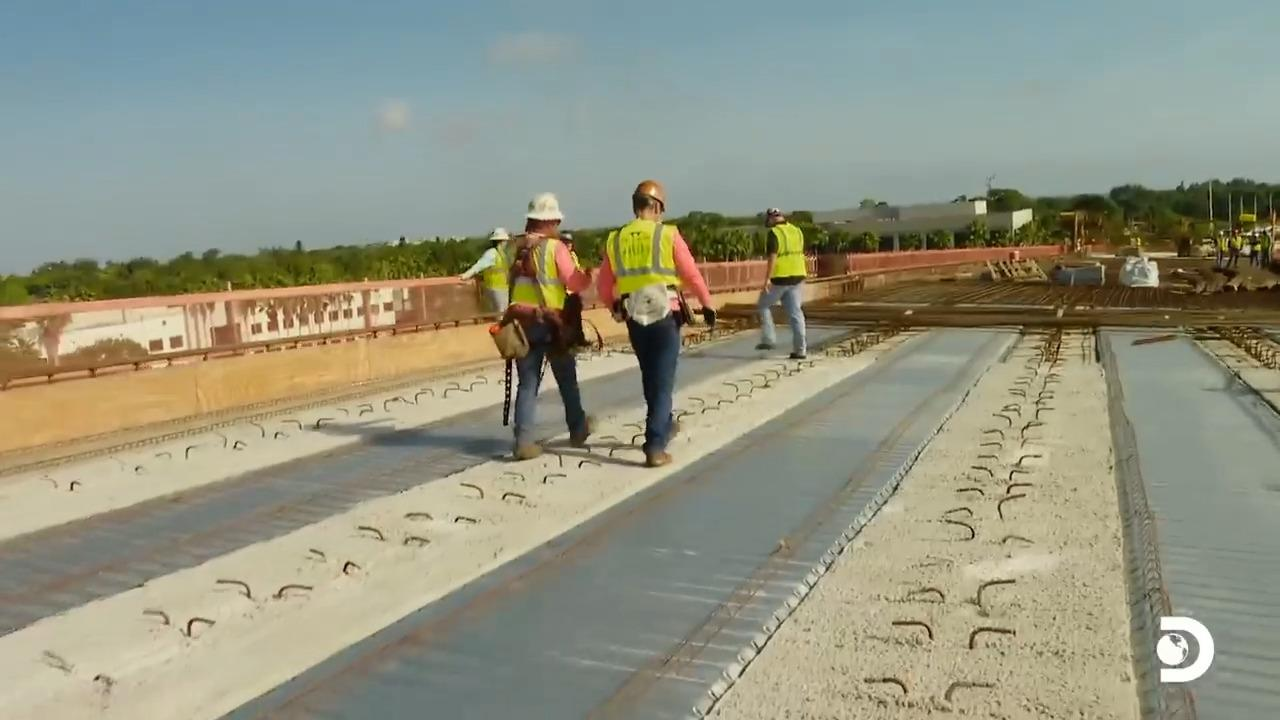Gloves: (702, 298, 719, 330)
Helmet: (524, 193, 563, 221), (632, 179, 665, 211), (764, 207, 784, 227), (488, 227, 511, 241)
Person: (595, 179, 716, 466), (501, 192, 597, 459), (754, 207, 807, 358), (458, 226, 513, 316)
Safety Boot: (571, 418, 599, 447), (647, 447, 678, 464), (516, 444, 546, 460)
Safety Vest: (612, 226, 679, 291), (511, 250, 567, 309), (772, 231, 802, 279), (488, 257, 508, 288)
bare-arms: (761, 278, 774, 291)
